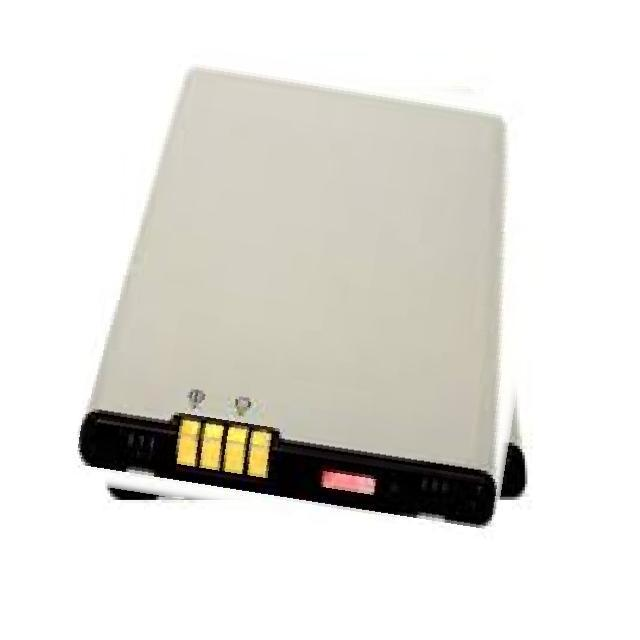Battery: (67, 48, 583, 627)
